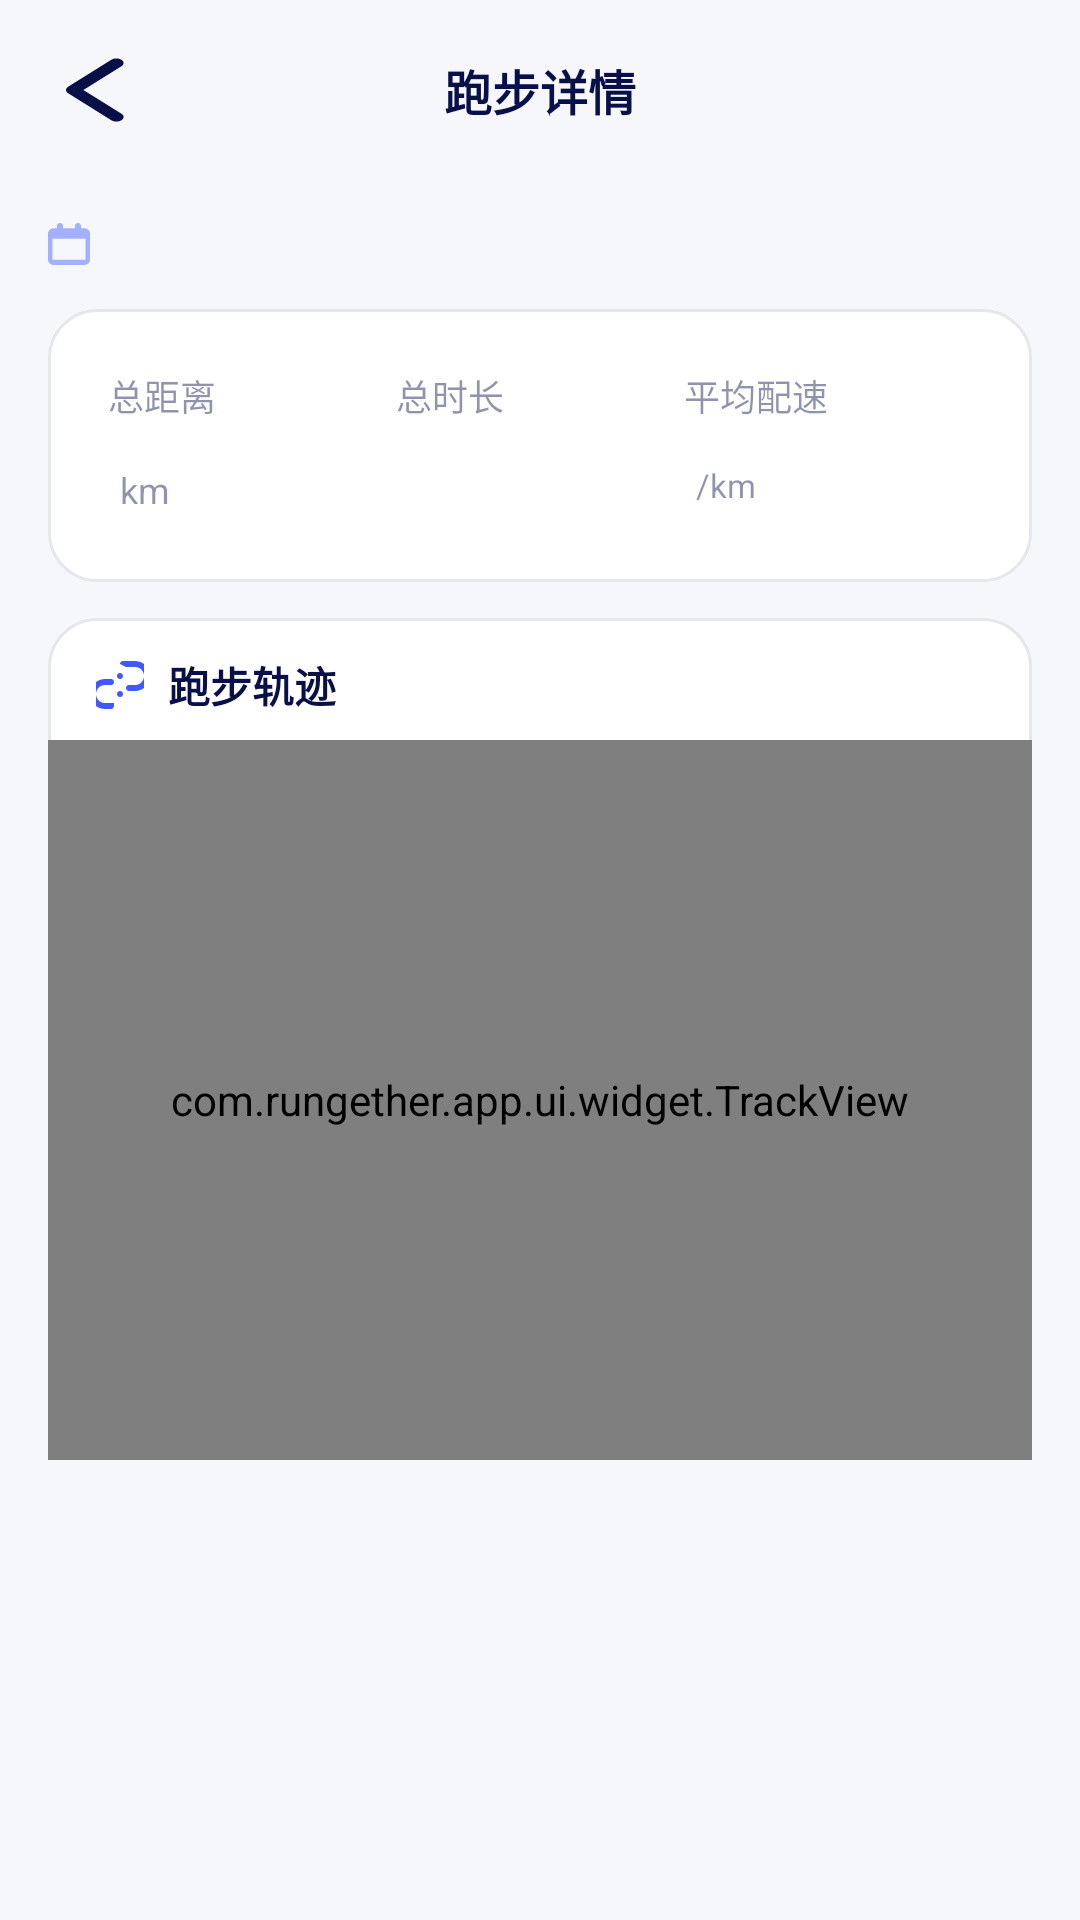

Where to tap for icons on this 1080w x 1920h app screen, as (x=x, y=y):
calendar: (x=69, y=244)
route: (x=120, y=685)
返回: (x=95, y=90)
